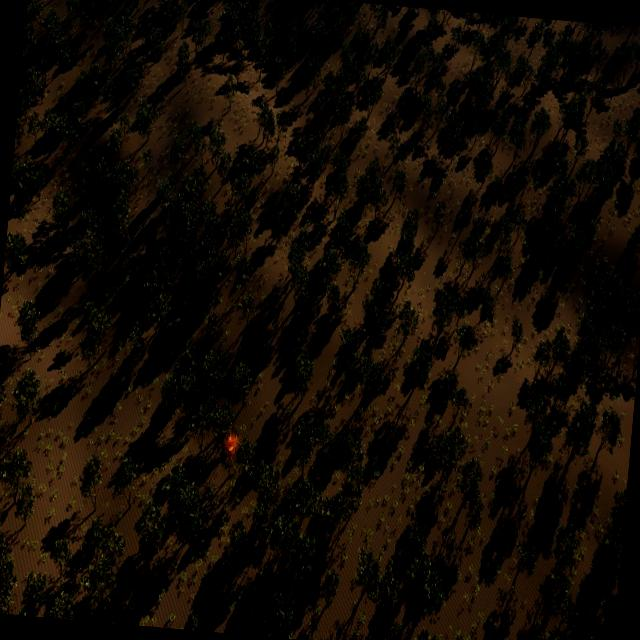fire: (224, 434, 240, 456)
